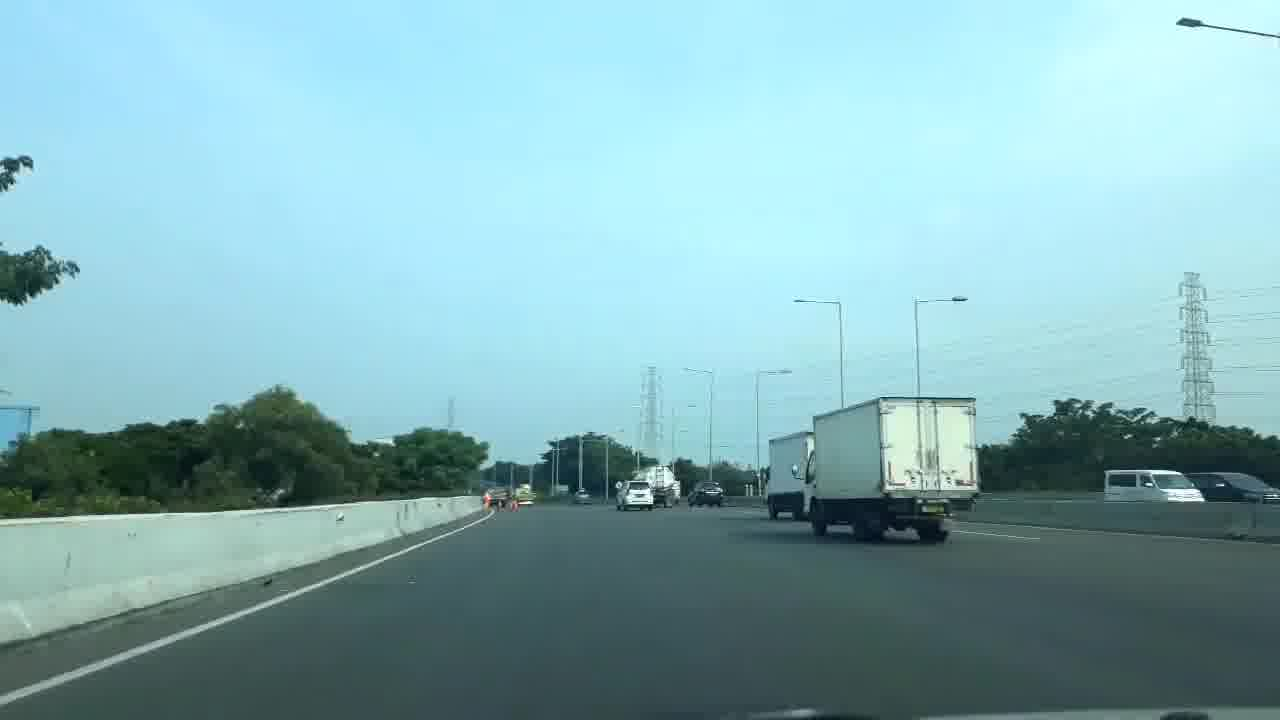plate_positive: (921, 504, 945, 514)
